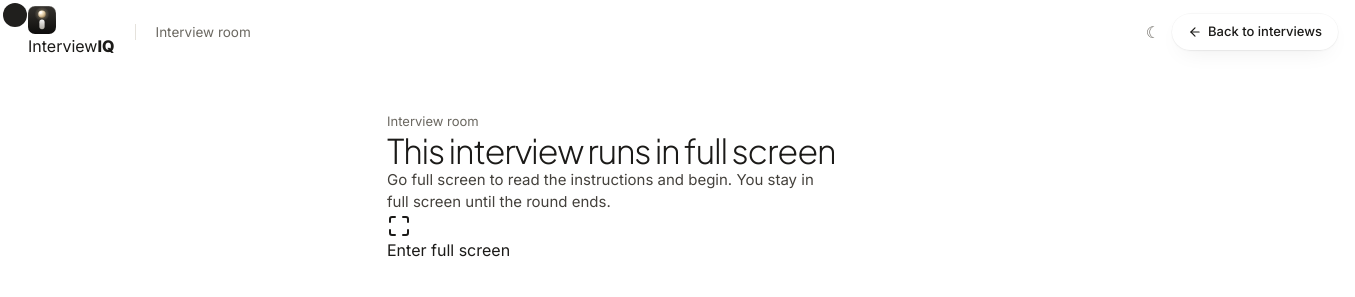
Test case: FullscreenGate › says so when the browser refuses full screen
This screenshot has width=1355, height=297.
Click the button "Enter full screen" at (449, 238), box [387,214,510,262]
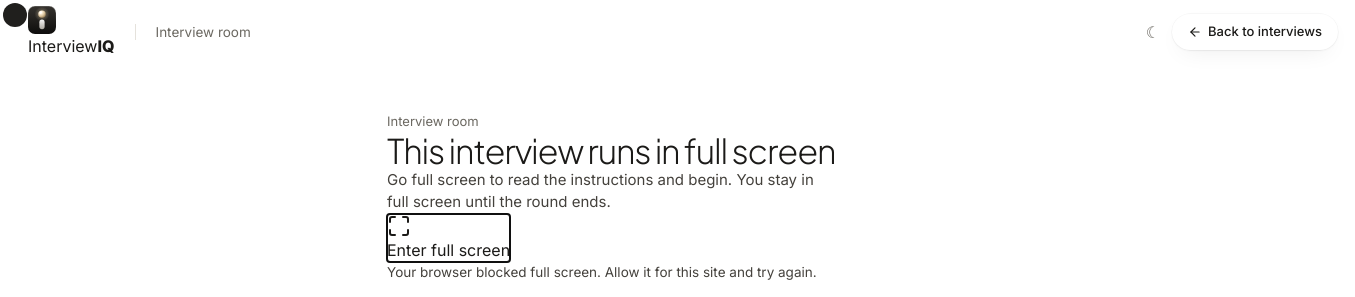
Check: the message shows "blocked full screen", box [387,264,817,280]
